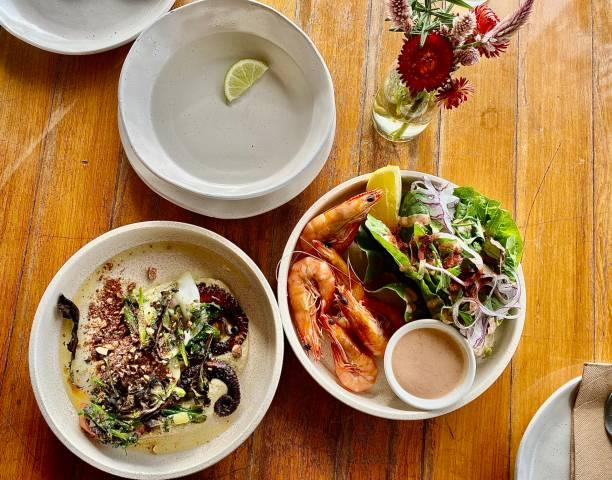Braised Crucian Carp: (27, 219, 282, 478), (276, 168, 523, 418)
